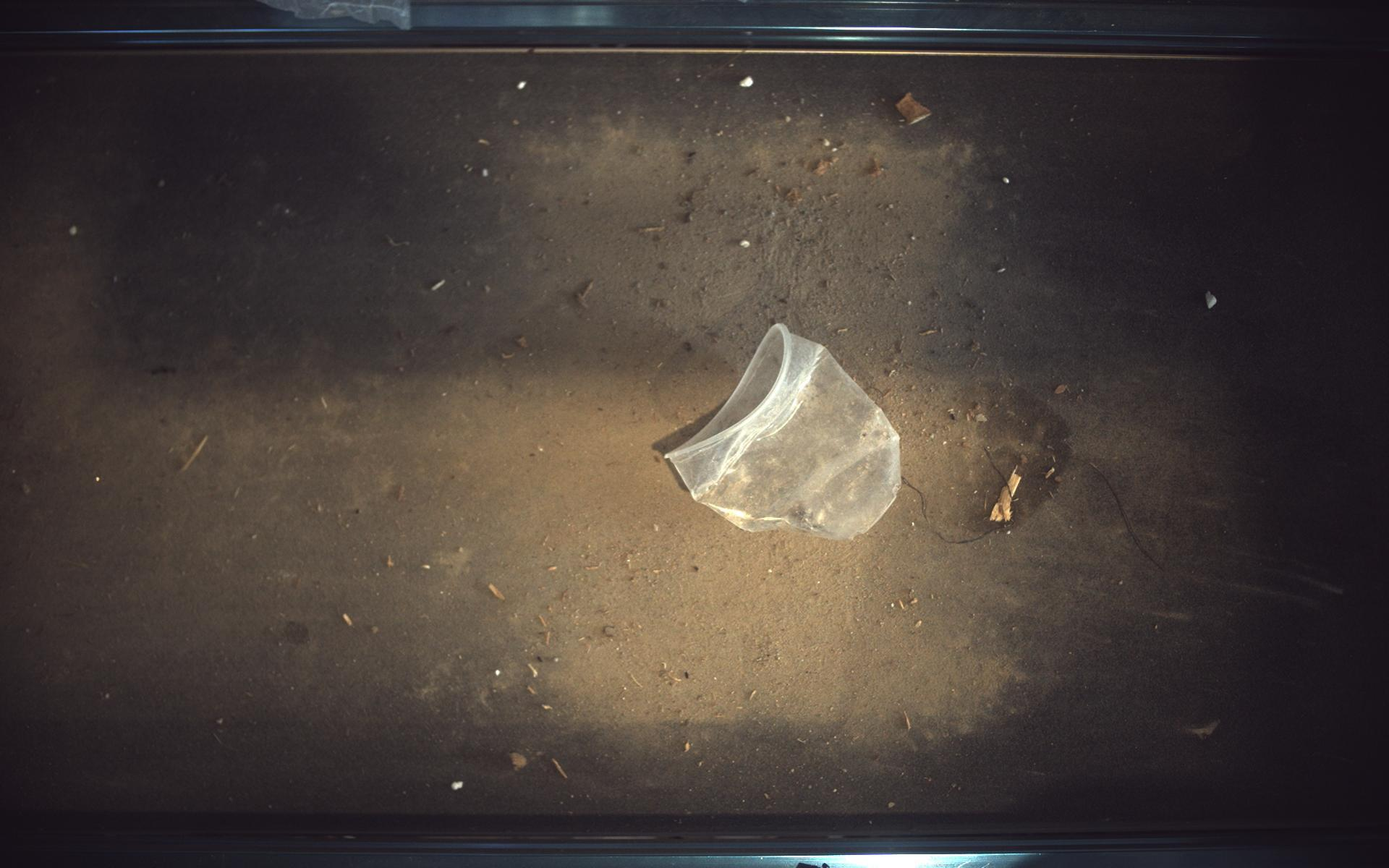general_w: (666, 324, 902, 540)
